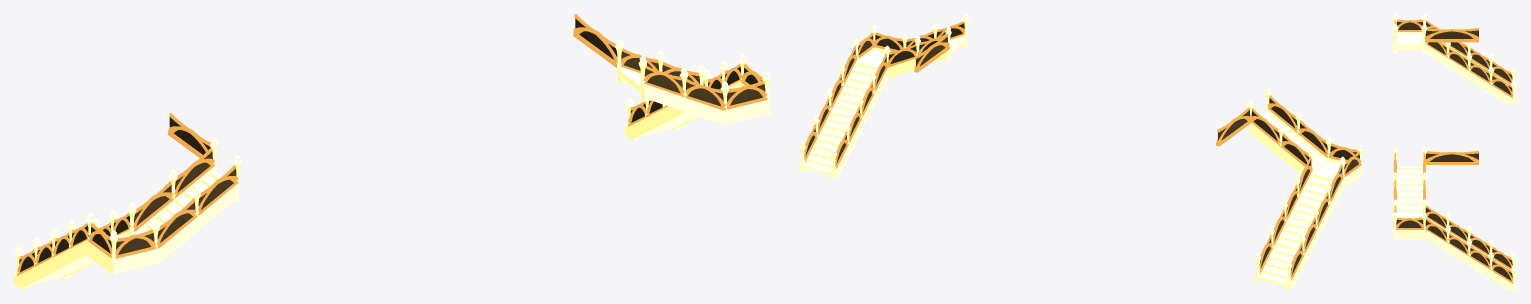
File: Homeworld_Interior_Xm_Room_P_Stair_Vo.fbx
3 views of the same model, side by side, from view 1: azimuth 30°, elevation 25°; view 2: azimuth 150°, elevation 25°; view 3: azimuth 270°, elevation 25° (orthographic). The views are drawn at different scales.
Parts seen in each view (by area): view 1: Homeworld_Interior_Xm_Room_P_Stair_01_Vo, Homeworld_Interior_Xm_Room_P_Stair_01_01_Vo; view 2: Homeworld_Interior_Xm_Room_P_Stair_01_Vo, Homeworld_Interior_Xm_Room_P_Stair_01_01_Vo; view 3: Homeworld_Interior_Xm_Room_P_Stair_01_01_Vo, Homeworld_Interior_Xm_Room_P_Stair_01_Vo.
Part boxes in pixels (x1=…): Homeworld_Interior_Xm_Room_P_Stair_01_Vo: x1=14, y1=113, x2=241, y2=289; Homeworld_Interior_Xm_Room_P_Stair_01_01_Vo: x1=573, y1=14, x2=770, y2=140; Homeworld_Interior_Xm_Room_P_Stair_01_Vo: x1=1216, y1=87, x2=1363, y2=289; Homeworld_Interior_Xm_Room_P_Stair_01_01_Vo: x1=799, y1=14, x2=969, y2=178; Homeworld_Interior_Xm_Room_P_Stair_01_01_Vo: x1=1392, y1=146, x2=1516, y2=289; Homeworld_Interior_Xm_Room_P_Stair_01_Vo: x1=1392, y1=14, x2=1516, y2=104.
Size of the model in its own units: 24.61 by 6.01 by 6.46.
